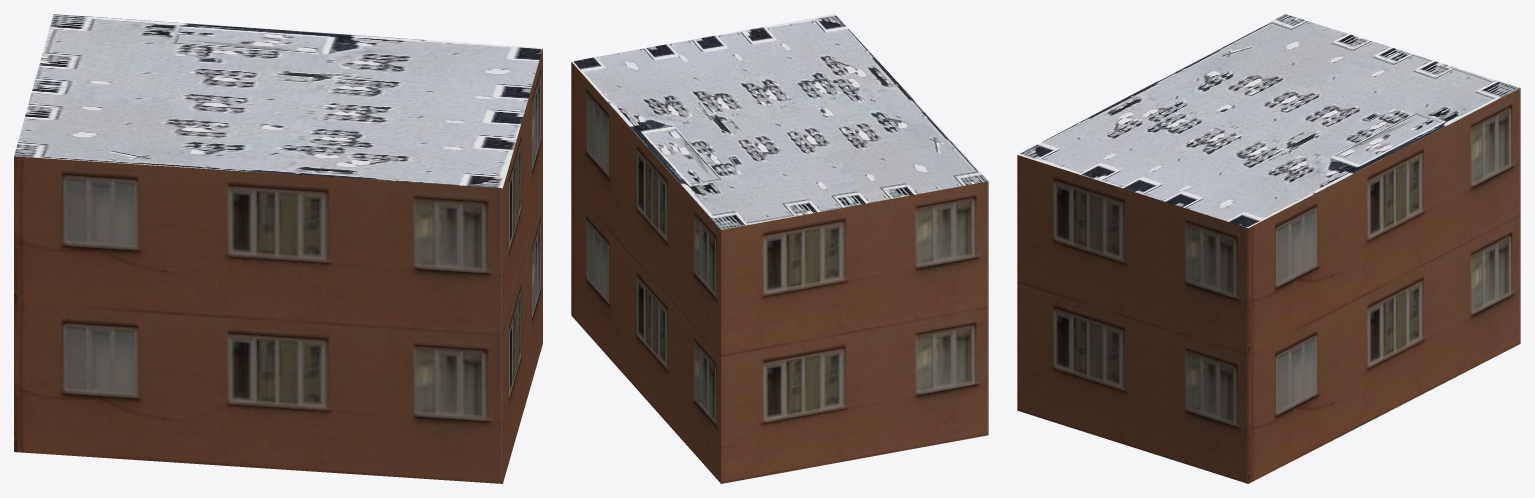
Rendered from ResTex__101.fbx.
The picture shows the model from 3 angles, left to right: view 1: azimuth 30°, elevation 25°; view 2: azimuth 150°, elevation 25°; view 3: azimuth 270°, elevation 25°; orthographic projection. The views are drawn at different scales.
Visible parts, largest first — view 1: CityEngineMaterial_20_m, CityEngineMaterial_8_m; view 2: CityEngineMaterial_20_m, CityEngineMaterial_8_m; view 3: CityEngineMaterial_20_m, CityEngineMaterial_8_m.
Boxes of the visible parts, box(x1,y1,x2,y2) form: CityEngineMaterial_20_m: box(14, 49, 542, 483); CityEngineMaterial_8_m: box(14, 14, 542, 188); CityEngineMaterial_20_m: box(571, 62, 988, 483); CityEngineMaterial_8_m: box(571, 14, 988, 229); CityEngineMaterial_20_m: box(1017, 88, 1520, 483); CityEngineMaterial_8_m: box(1018, 14, 1519, 227).
Bounding box in the file's own units: 10.78 × 6 × 10.7.
Materials: 2 (2 with a texture image).
